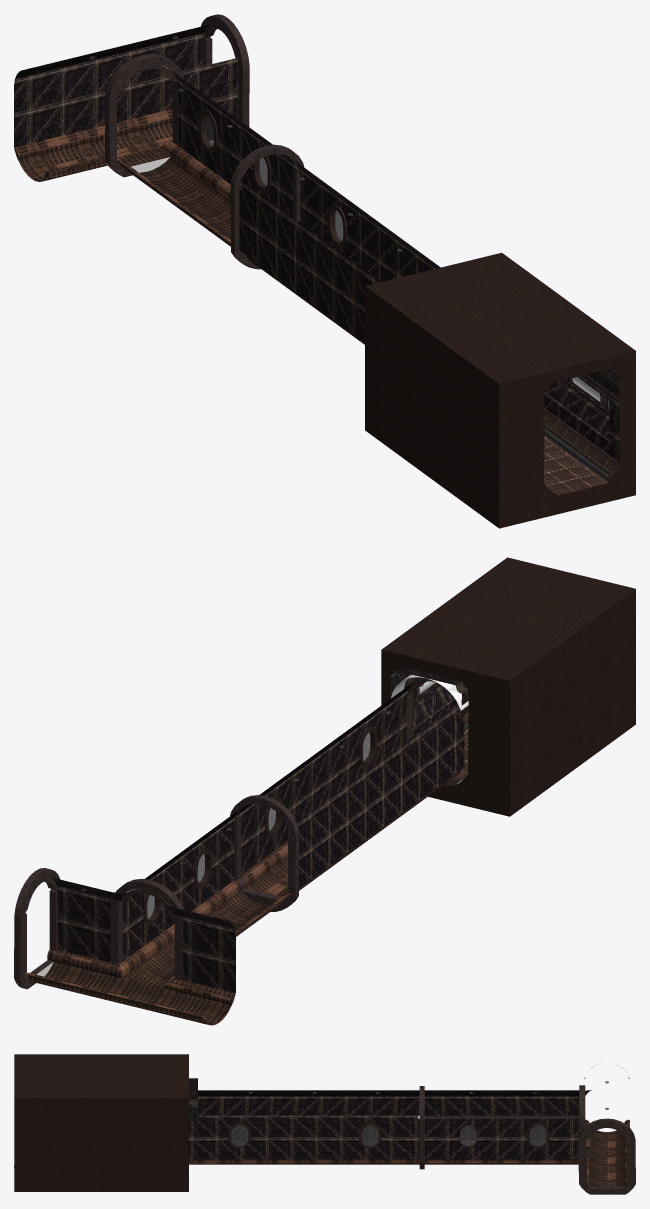
3 views of the same model, one above another, from view 1: azimuth 30°, elevation 25°; view 2: azimuth 150°, elevation 25°; view 3: azimuth 270°, elevation 25° (orthographic). The views are drawn at different scales.
Visible parts, largest first — view 1: xdddd; view 2: xdddd; view 3: xdddd.
Boxes of the visible parts, box(x1,y1,x2,y2) form: xdddd: box(14, 14, 635, 528); xdddd: box(14, 557, 635, 1025); xdddd: box(14, 1054, 635, 1194).
Size of the model in its own units: 5.54 by 3.9 by 23.41.
